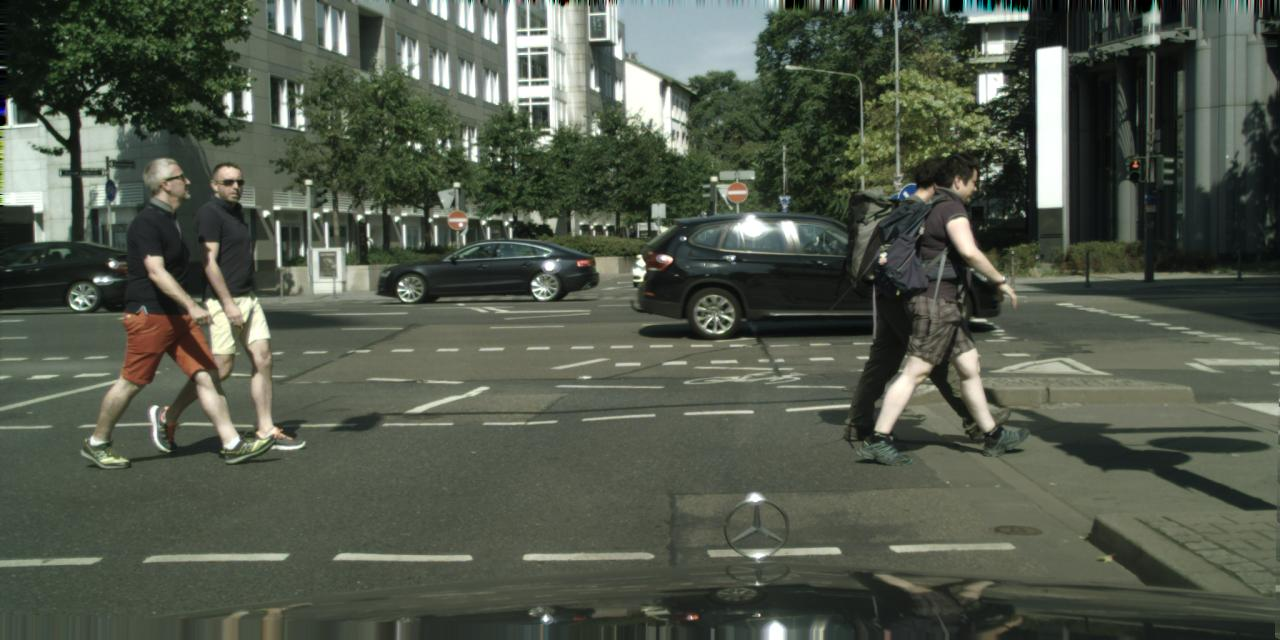ped: (104, 156, 230, 464), (893, 155, 1018, 458), (873, 154, 991, 442), (165, 162, 282, 448)
